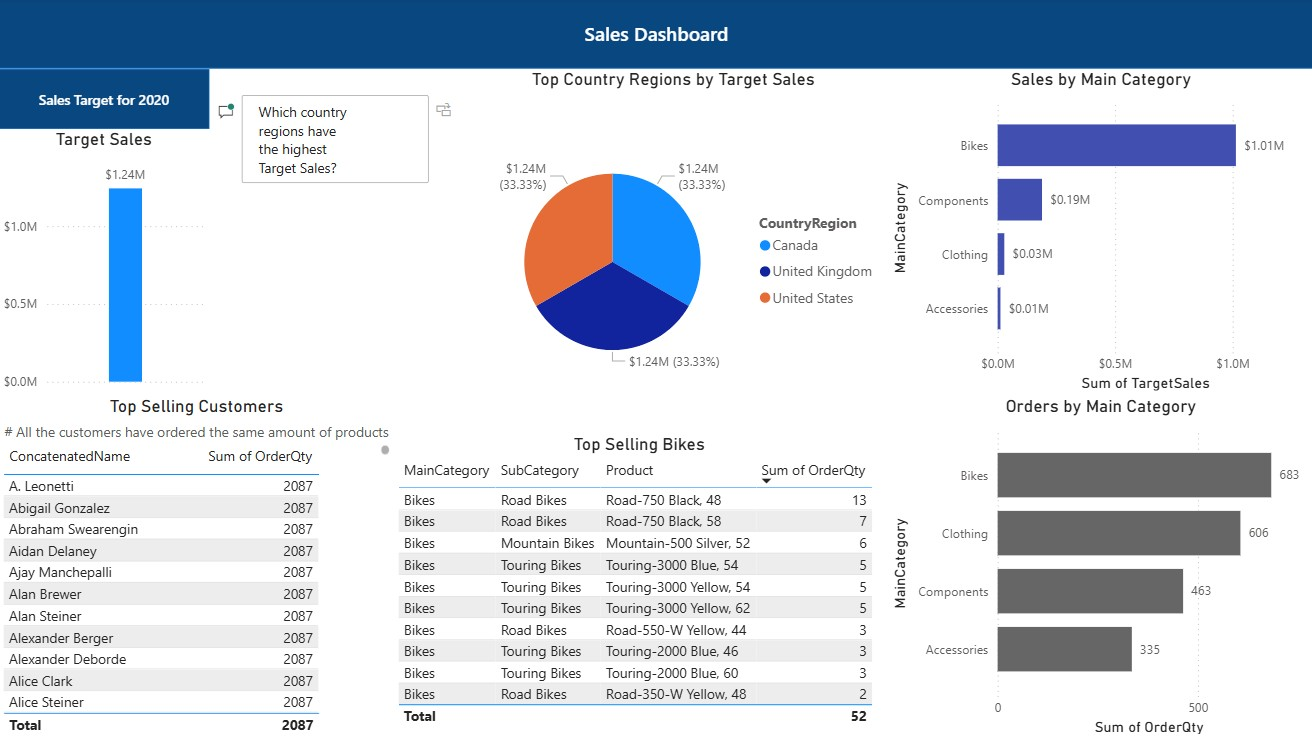

What the dashboard file says about the page in this screenshot:
{"tool":"powerbi","page":{"name":"Sales Dashboard","canvas":[1280,720],"ordinal":0},"visuals":[{"type":"shape","box":[0,0,1278.2,69.6],"z":0},{"type":"clusteredColumnChart","title":"Target Sales","fields":{"Y":["Sum(Sales.TargetSales)"]},"box":[0,127.8,205.5,258.9],"z":1000},{"type":"barChart","title":"Orders by Main Category","fields":{"Category":["Sales.MainCategory"],"Y":["Sum(Sales.OrderQty)"]},"box":[862.4,386.7,417.4,333.3],"z":2000},{"type":"barChart","title":"Sales by Main Category","fields":{"Y":["Sum(Sales.TargetSales)"],"Category":["Sales.MainCategory"]},"box":[862.4,69.6,417.4,317.1],"z":3000},{"type":"tableEx","title":"Top Selling Bikes","fields":{"Values":["Sales.MainCategory","Sales.SubCategory","Sales.Product","Sum(Sales.OrderQty)"]},"box":[383.5,423.9,478.9,296.1],"z":4000},{"type":"tableEx","title":"Top Selling Customers","fields":{"Values":["Customers.ConcatenatedName","Sum(Sales.OrderQty)"]},"box":[0,386.7,385.1,333.3],"z":5000},{"type":"shape","box":[0,69.6,205.5,58.2],"z":6000},{"type":"qnaVisual","box":[205.5,69.6,242.7,317.1],"z":7000},{"type":"pieChart","title":"Top Country Regions by Target Sales","fields":{"Category":["SalesLT Address.CountryRegion"],"Y":["Sum(Sales.TargetSales)"]},"box":[448.2,69.6,414.2,354.3],"z":8000}]}

Visuals, with their boxes in screenshot pixels (x1, y1, x2, y2), scaled from the page's 1280x720 canvas onto the 1312x736 screenshot:
shape: (x1=0, y1=0, x2=1310, y2=71)
"Target Sales" clusteredColumnChart: (x1=0, y1=131, x2=211, y2=395)
"Orders by Main Category" barChart: (x1=884, y1=395, x2=1311, y2=735)
"Sales by Main Category" barChart: (x1=884, y1=71, x2=1311, y2=395)
"Top Selling Bikes" tableEx: (x1=393, y1=433, x2=884, y2=735)
"Top Selling Customers" tableEx: (x1=0, y1=395, x2=395, y2=735)
shape: (x1=0, y1=71, x2=211, y2=131)
qnaVisual: (x1=211, y1=71, x2=459, y2=395)
"Top Country Regions by Target Sales" pieChart: (x1=459, y1=71, x2=884, y2=433)
